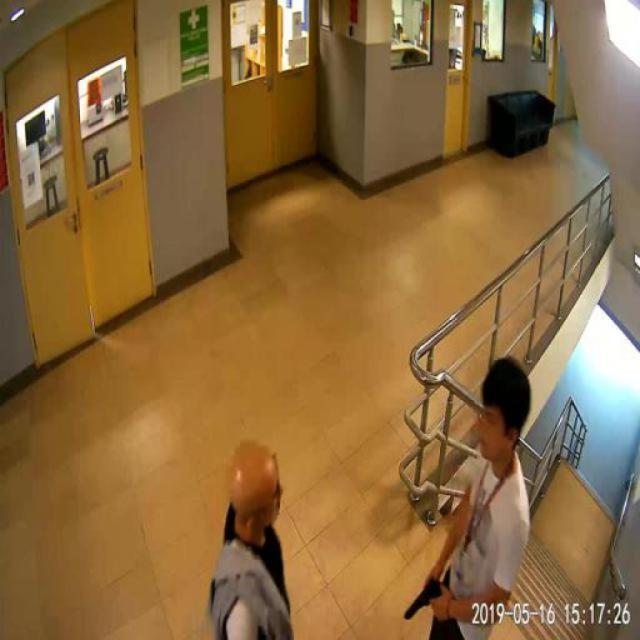pistol: (402, 574, 442, 622)
